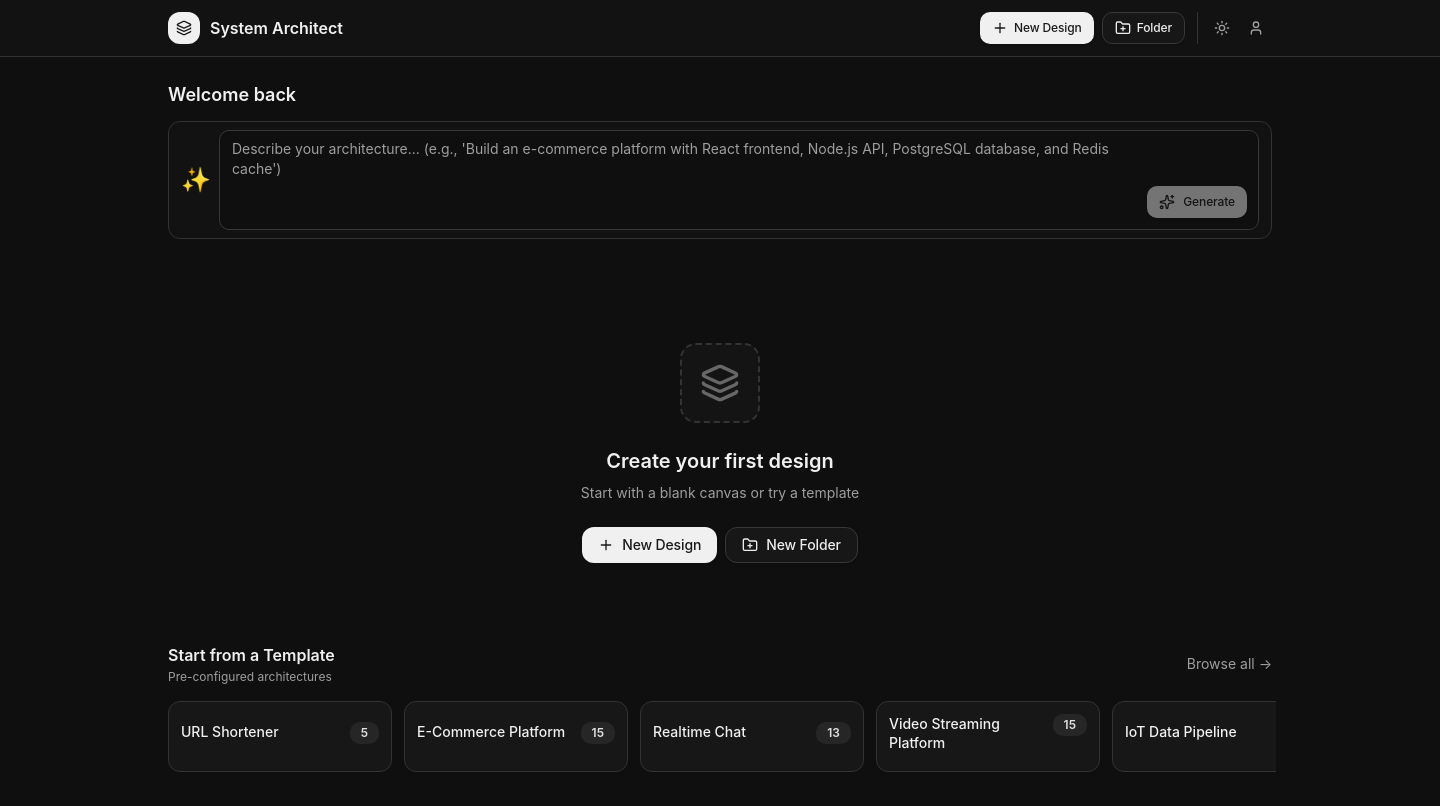
Scenario: DashboardPage › opens folder creation dialog when New Folder is clicked
The width and height of the screenshot is (1440, 806).
Click New Folder button (in the header)
Click the button "New Folder".
click(791, 545)  # box [725,527,858,563]
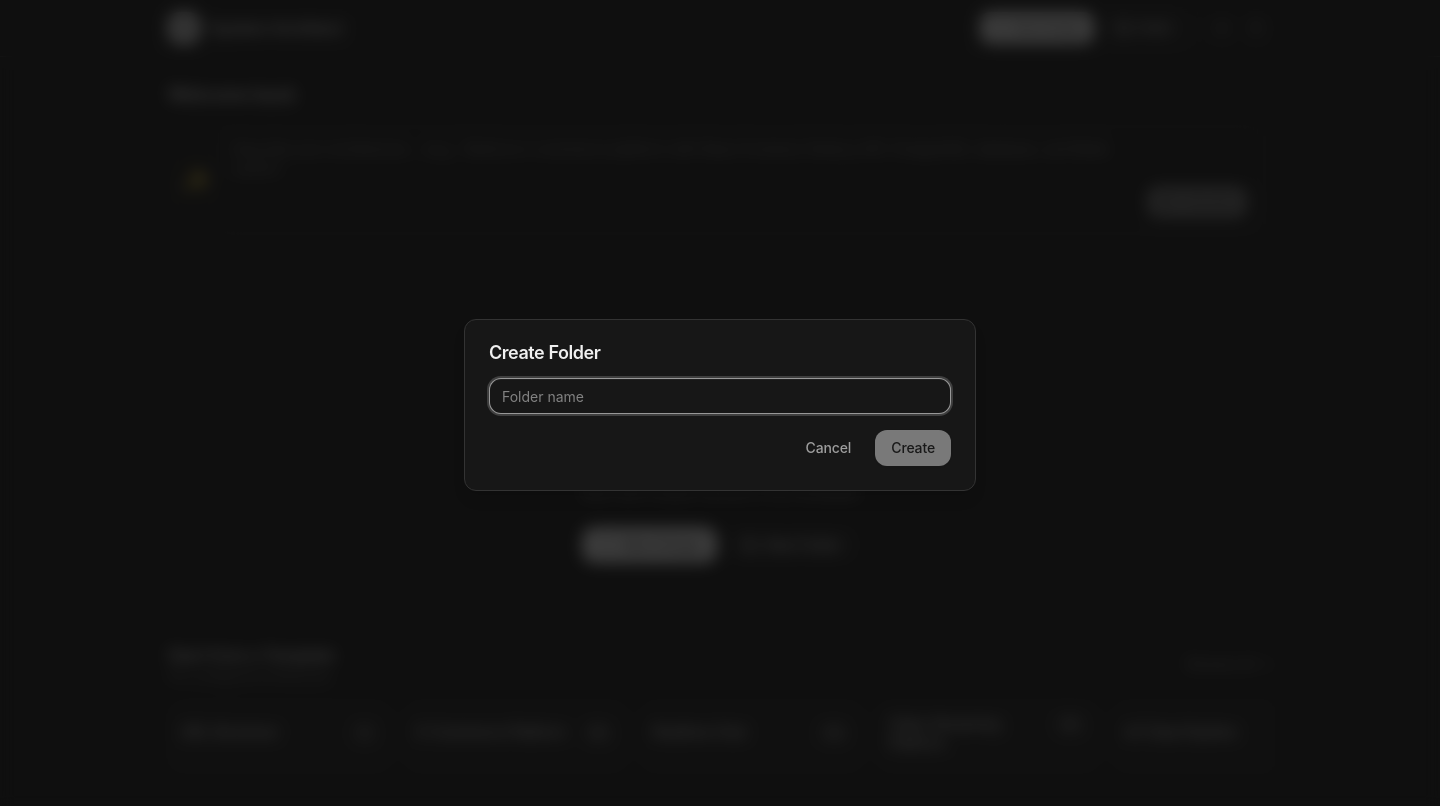
Expected: the heading "Create Folder" is shown, [489,342,600,363]
Expected: the field with placeholder "Folder name" is shown, [489,378,951,414]
